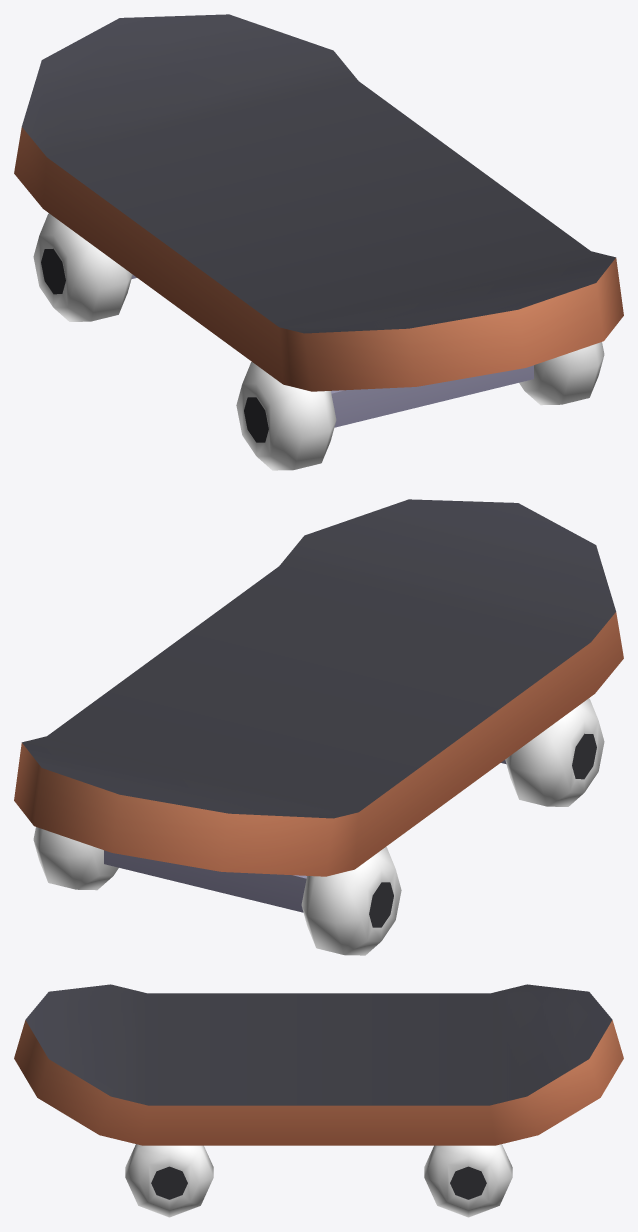
File: sport_skateboard.glb
3 renders of one model, top to bottom at view 1: azimuth 30°, elevation 25°; view 2: azimuth 150°, elevation 25°; view 3: azimuth 270°, elevation 25°, orthographic. The views are drawn at different scales.
Visible parts, largest first — view 1: skateboard; view 2: skateboard; view 3: skateboard.
Boxes of the visible parts, box(x1,y1,x2,y2) form: skateboard: box(14, 14, 623, 470); skateboard: box(14, 499, 623, 955); skateboard: box(14, 984, 623, 1217).
Bounding box in the file's own units: 0.3155 × 0.1805 × 0.6898.
1 material, 1 textured.
